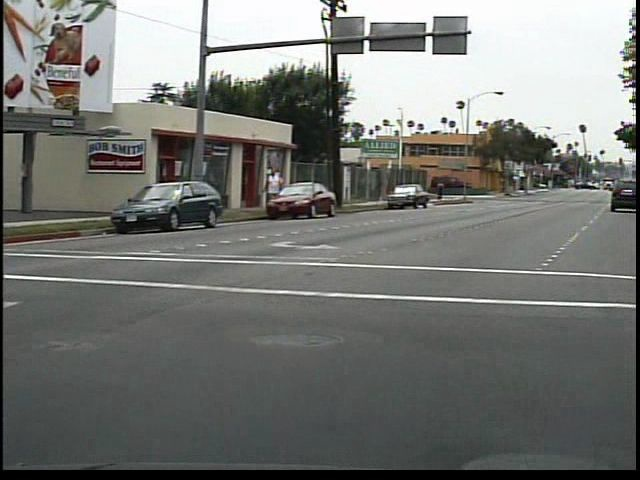person: (268, 160, 293, 215), (440, 178, 453, 204)
